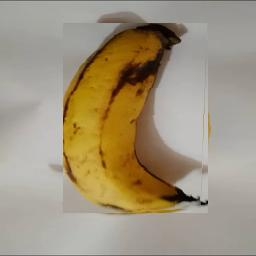Banana Semifresh: (64, 23, 209, 213)
